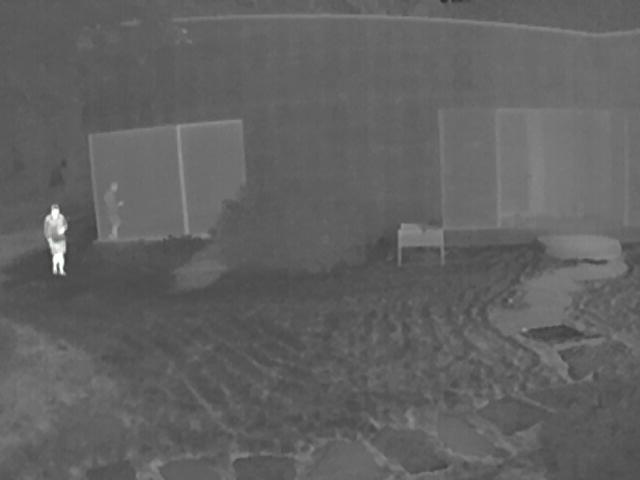person: (43, 204, 67, 276), (101, 179, 127, 241)
